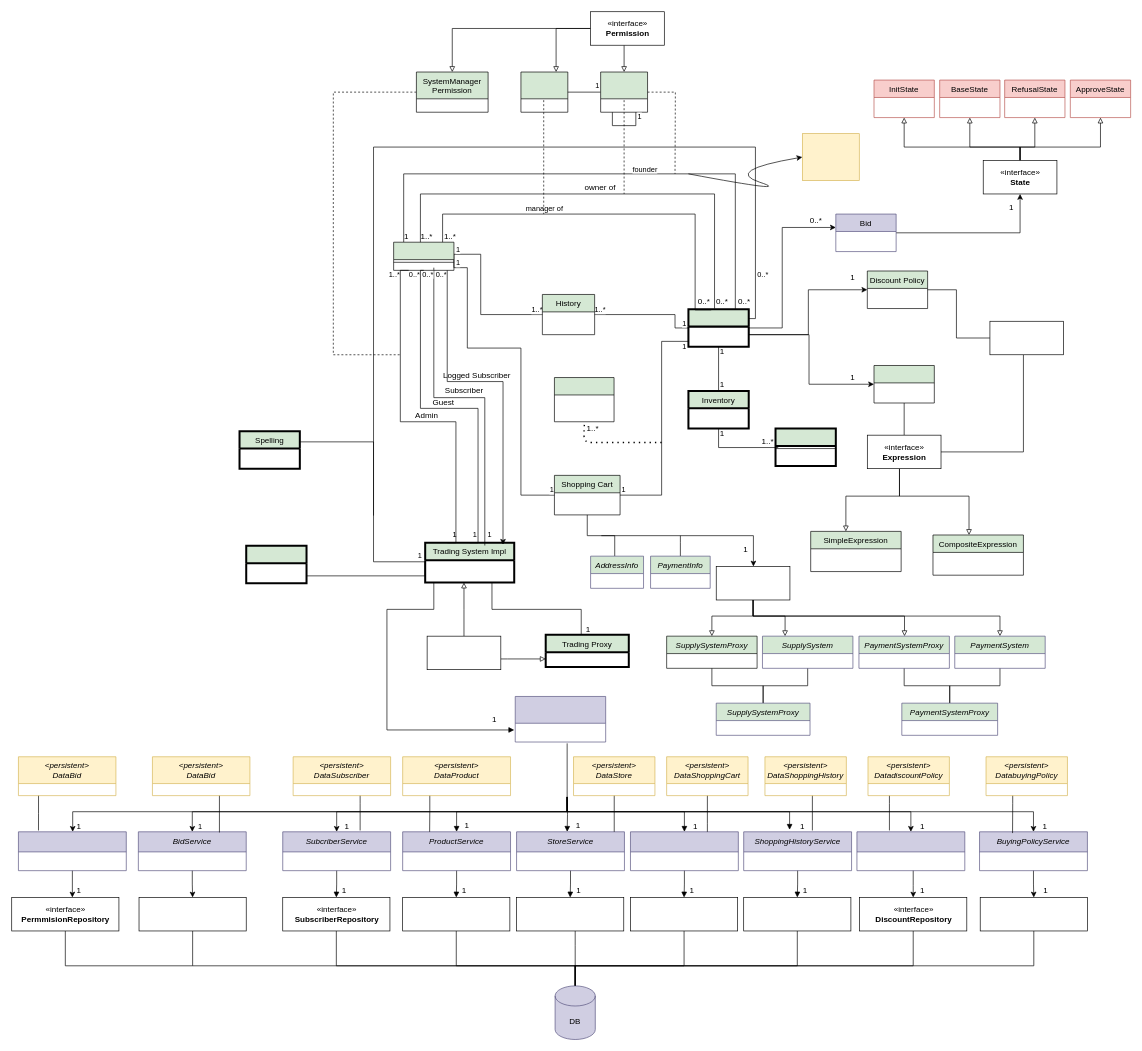
Some shapes in this 1142 by 1051 pixel diagram are drawn without their labels. Here are the shapes that lost their labels. From the top down, the box of each, then its label:
(520, 71, 568, 112): Manager Permission
(600, 71, 648, 112): Owner Permission
(802, 133, 859, 181): founder is owner without appointment
(393, 242, 454, 270): User
(687, 308, 749, 347): Store
(989, 321, 1064, 355): «interface» Sale
(554, 377, 614, 422): Shopping Bag
(873, 365, 934, 403): Buying Policy
(774, 427, 836, 467): Product
(245, 544, 307, 584): Validation
(716, 566, 790, 600): «interface» ExternalServices
(426, 635, 501, 670): «interface» Trading System
(515, 696, 606, 742): Data_Controller
(18, 831, 126, 871): PermmisionService
(630, 831, 738, 871): ShoppingCartService
(856, 831, 965, 871): DiscountPolicyService
(138, 897, 246, 931): «interface» BidRepository
(402, 897, 510, 931): «interface» ProductRepository
(516, 897, 624, 931): «interface» StoreRepository
(630, 897, 738, 931): «interface» ShoppingCartRepository
(743, 897, 851, 931): «interface» ShoppingHistoryRepository
(980, 897, 1087, 931): «interface» BuyingRepository
